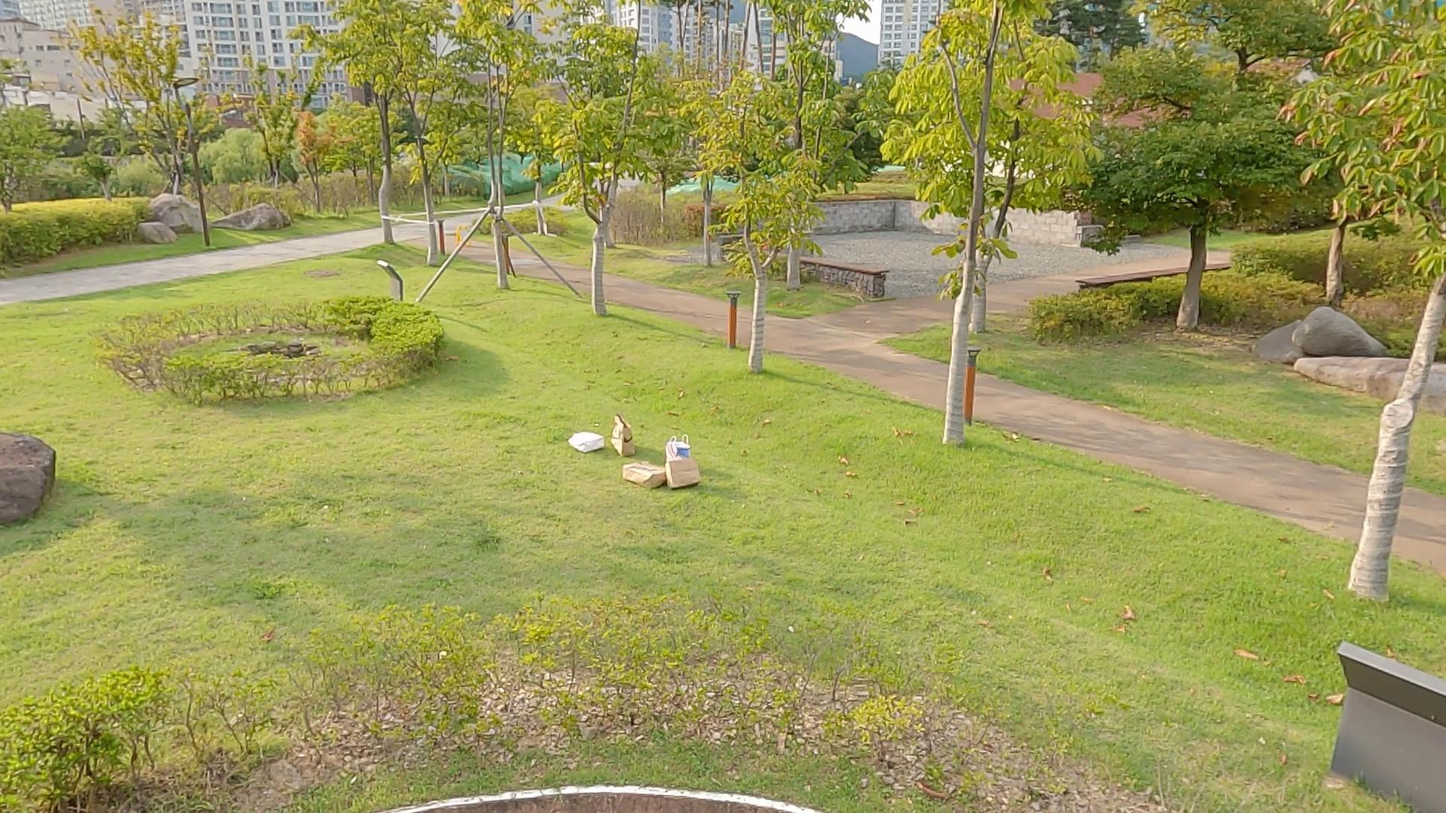trash: (620, 456, 666, 493), (664, 454, 707, 491), (607, 412, 639, 458), (664, 430, 695, 473), (569, 425, 607, 457)
